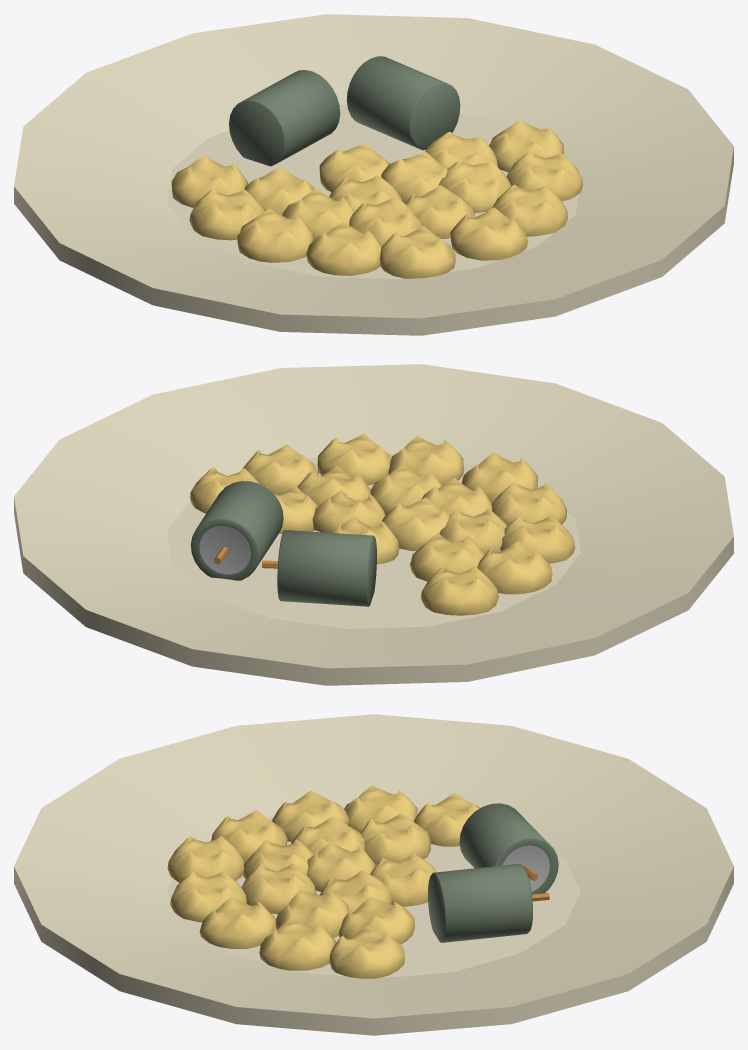
The model's file is SainteMaureWashed.fbx.
The picture shows the model from 3 angles, top to bottom: view 1: azimuth 30°, elevation 25°; view 2: azimuth 150°, elevation 25°; view 3: azimuth 270°, elevation 25°; orthographic projection.
Visible parts, largest first — view 1: Sainte_Maure_Washed; view 2: Sainte_Maure_Washed; view 3: Sainte_Maure_Washed.
Part boxes in pixels (x1,y1,x2,y2): Sainte_Maure_Washed: (14, 14, 733, 335); Sainte_Maure_Washed: (14, 364, 733, 685); Sainte_Maure_Washed: (14, 714, 733, 1035).
Bounding box in the file's own units: 0.6488 × 0.6488 × 0.0972.
